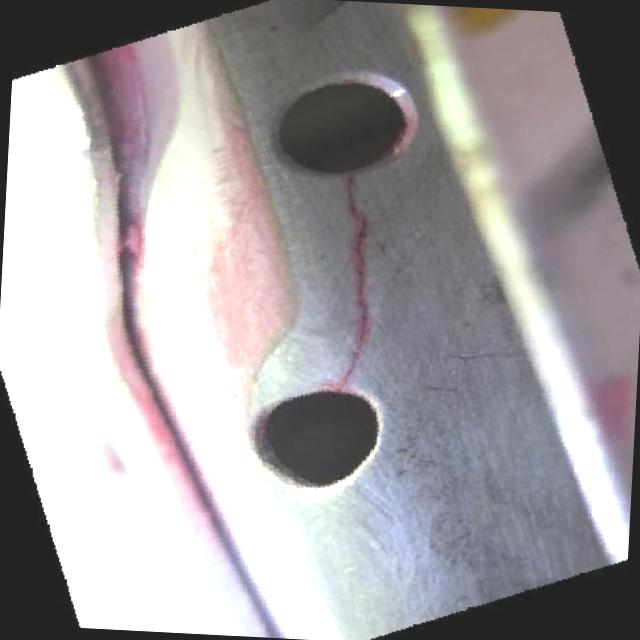crack: (346, 182, 376, 270), (343, 342, 364, 392), (356, 272, 371, 340)
